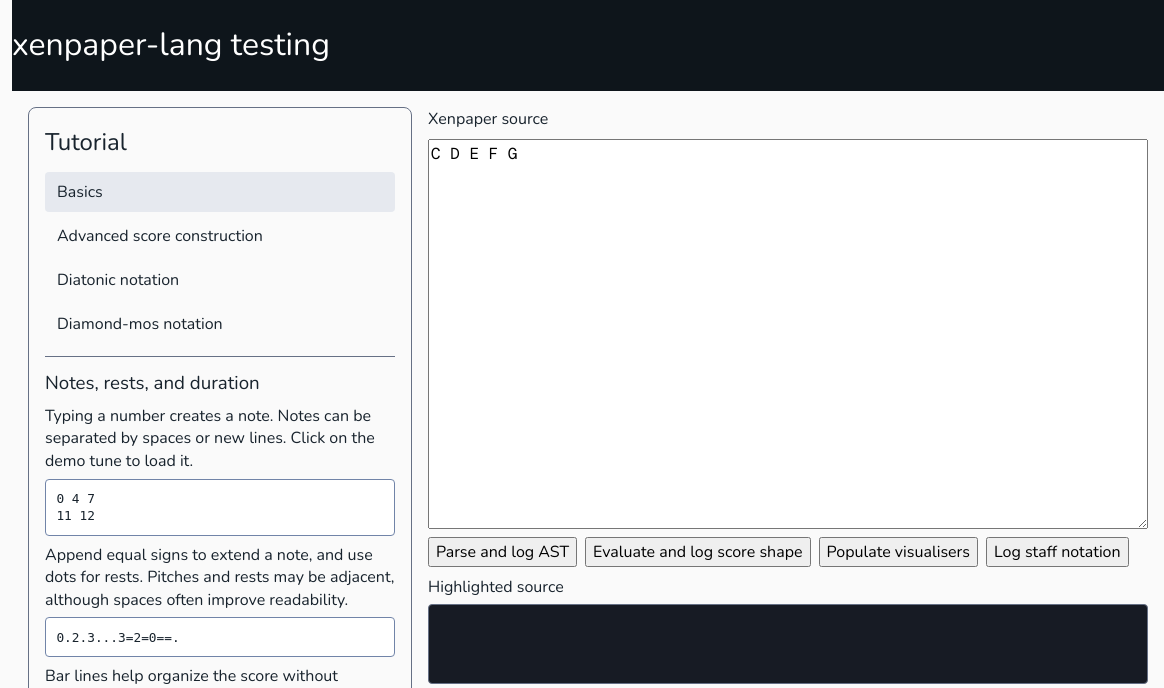
XenpaperLangTestingView › renders a separate highlighted copy and exposes its token ranges for debugging
Replace the text in the text box labelled "Xenpaper source" with "@tempo(120) C# # fast" at (788, 334), box [428,139,1148,529]
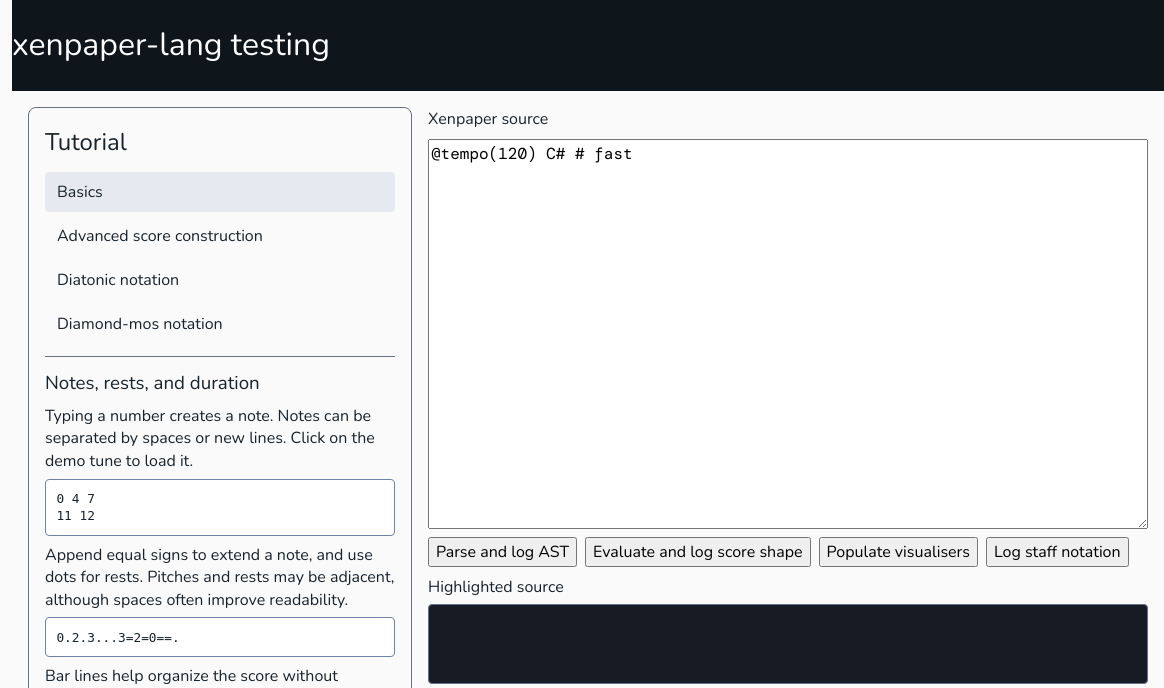
Check: the element named "Syntax-highlighted Xenpaper source" is empty, box [428,604,1148,684]
Click the button "Parse and log AST" at (503, 552), box [428,537,577,567]
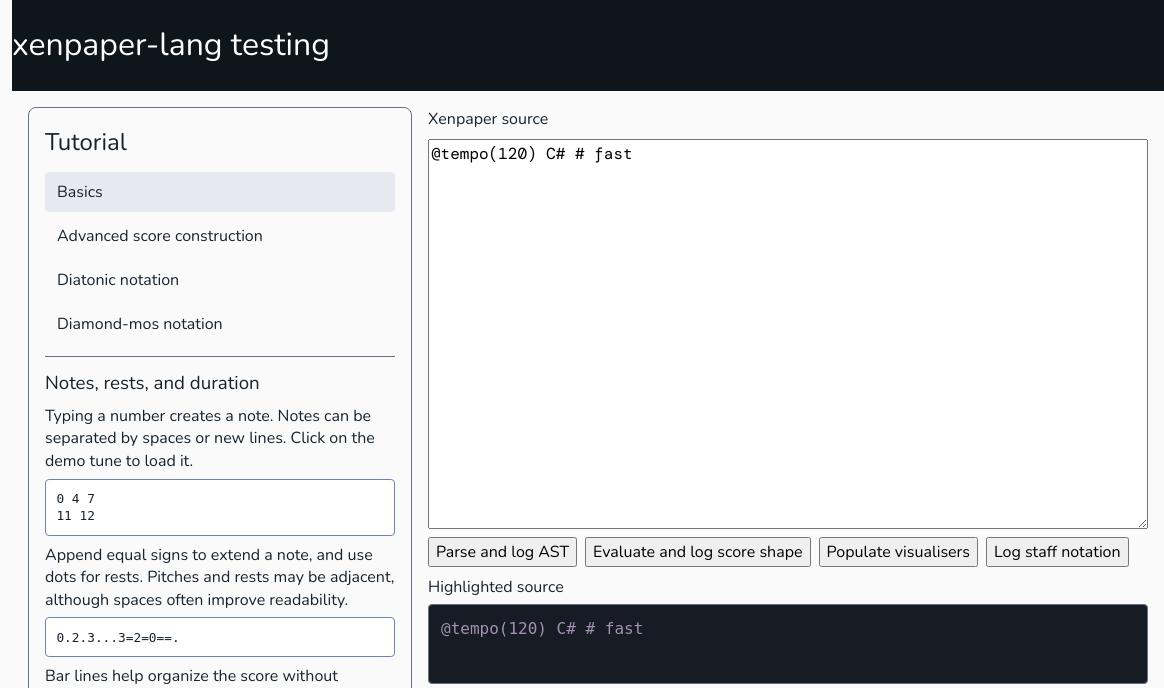
Check: the element named "Syntax-highlighted Xenpaper source" reads "@tempo(120) C# # fast", box [428,604,1148,684]
Check: the text "@tempo(120)" is shown, box [441,620,547,638]
